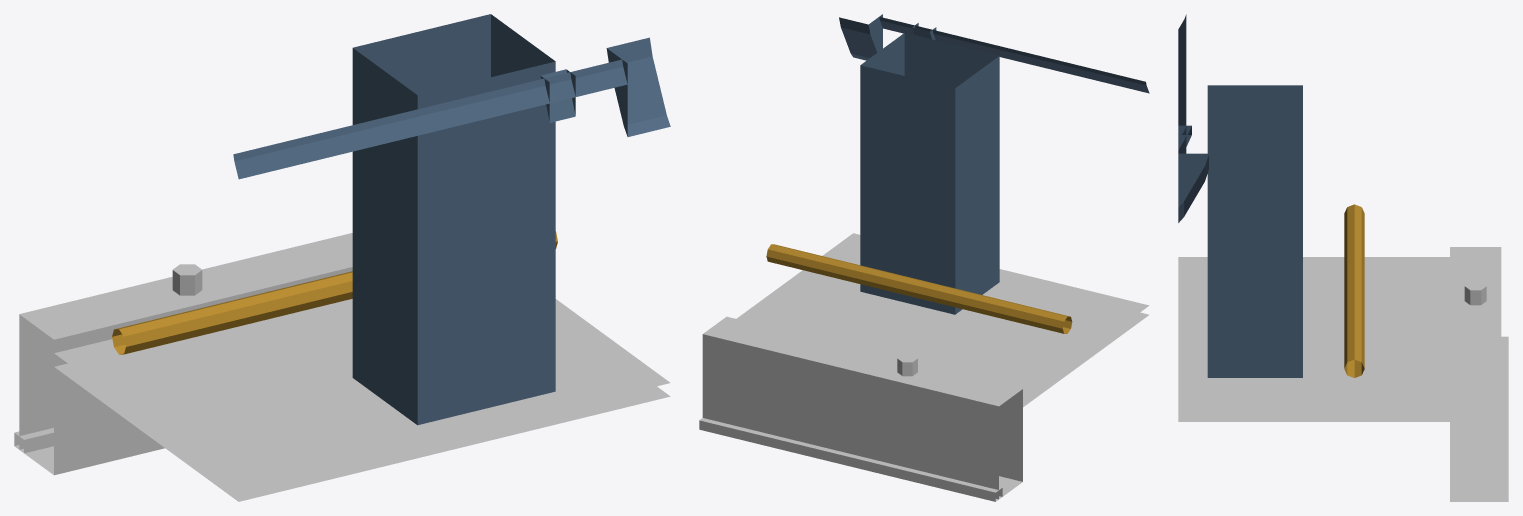
The model's file is cell_3.obj.
The picture shows the model from 3 angles, left to right: view 1: azimuth 30°, elevation 25°; view 2: azimuth 150°, elevation 25°; view 3: azimuth 270°, elevation 25°; orthographic projection. The views are drawn at different scales.
Bounding box in the file's own units: 1 × 1 × 0.9.
